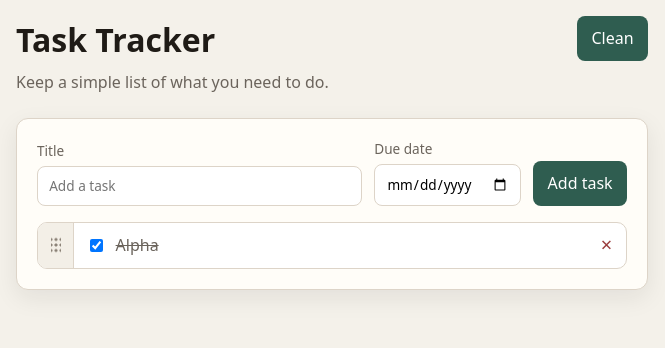
Test: TaskListPage › shows create, update, and delete failures
This screenshot has width=665, height=348.
Expected: the text "Alpha" is shown, top-left (116, 233), bottom-right (159, 257)
Type "Next" into the field labelled "Title" at (200, 186), box top-left (37, 166), bottom-right (362, 206)
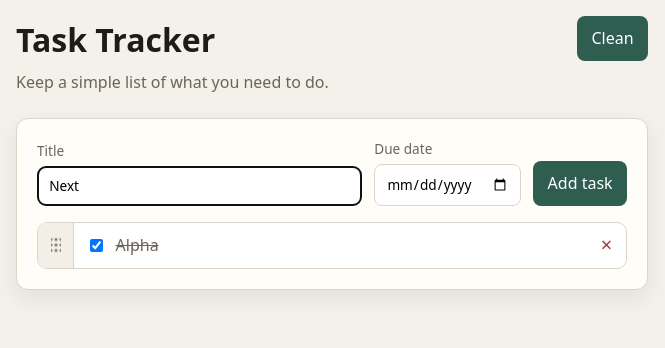
Click the button "Add task" at (580, 183), box top-left (533, 161), bottom-right (627, 206)
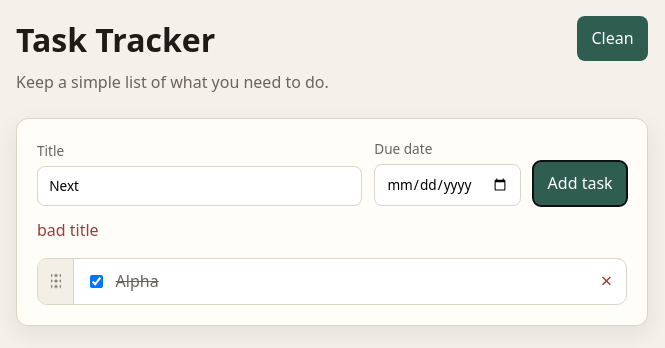
Expected: the text "bad title" is shown, top-left (37, 219), bottom-right (99, 241)
Click the button "Add task" at (580, 183), box top-left (533, 161), bottom-right (627, 206)
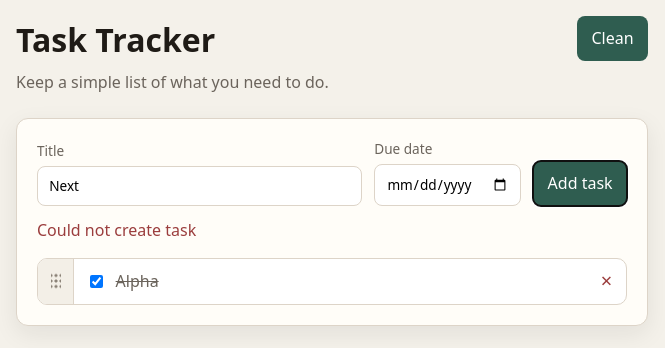
Expected: the text "Could not create task" is shown, top-left (37, 219), bottom-right (196, 241)
Click the checkbox named "Mark Alpha as pending" at (96, 281), box top-left (90, 275), bottom-right (103, 288)
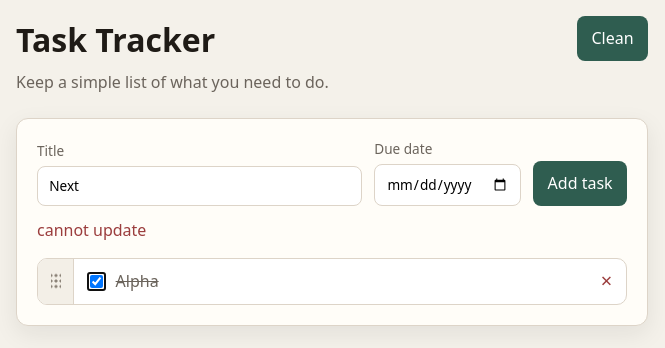
Expected: the text "cannot update" is shown, top-left (37, 219), bottom-right (146, 241)
Click the button named "Delete Alpha" at (606, 281), box top-left (592, 267), bottom-right (620, 295)
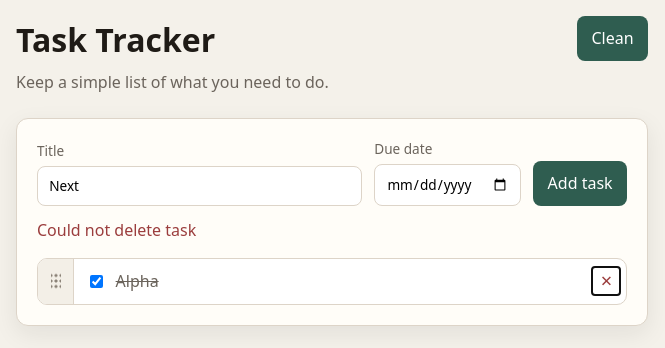
Expected: the text "Could not delete task" is shown, top-left (37, 219), bottom-right (196, 241)
